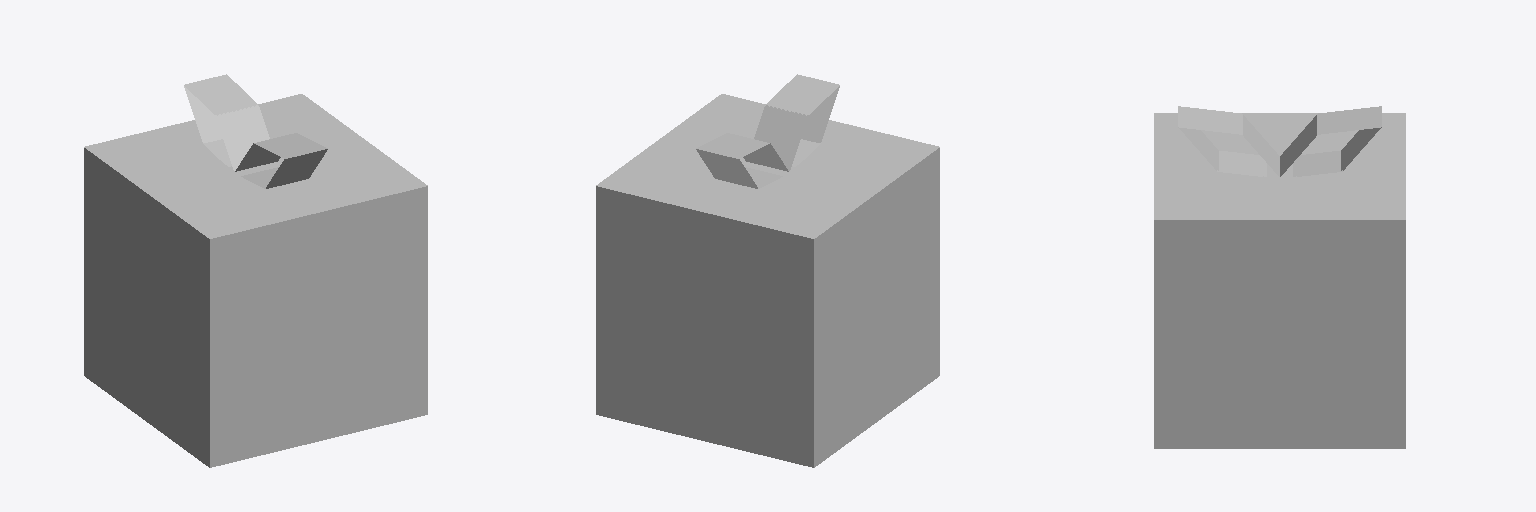
The model's file is christmas_present.obj.
3 views of the same model, side by side, from view 1: azimuth 30°, elevation 25°; view 2: azimuth 150°, elevation 25°; view 3: azimuth 270°, elevation 25° (orthographic).
Parts seen in each view (by area): view 1: model; view 2: model; view 3: model.
Part boxes in pixels (left/top/right/bottom): model: left=84, top=74, right=427, bottom=467; model: left=596, top=74, right=939, bottom=467; model: left=1154, top=106, right=1405, bottom=448.
Bounding box in the file's own units: 0.625 × 0.7607 × 0.625.